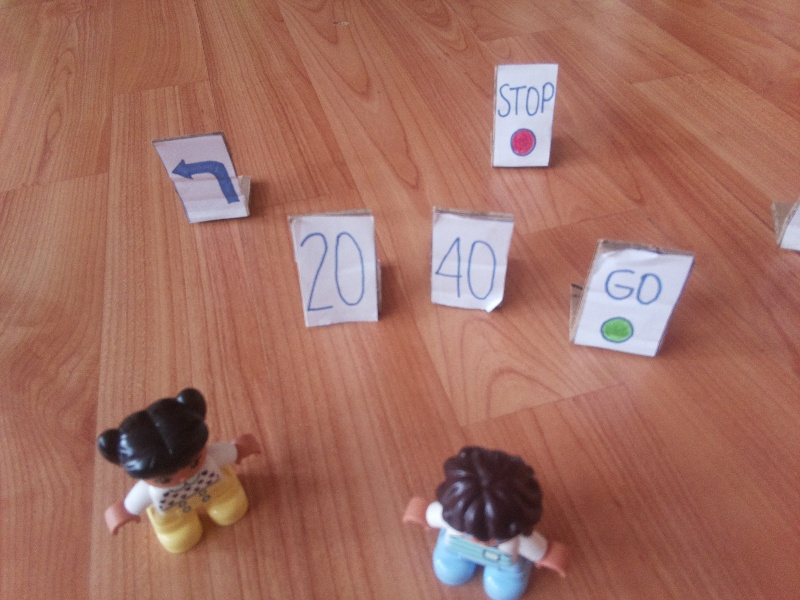20: (297, 227, 371, 315)
40: (436, 232, 497, 303)
go: (595, 264, 664, 346)
person: (80, 386, 270, 551), (398, 441, 576, 600)
stop: (496, 76, 555, 162)
turn left: (170, 155, 245, 207)
